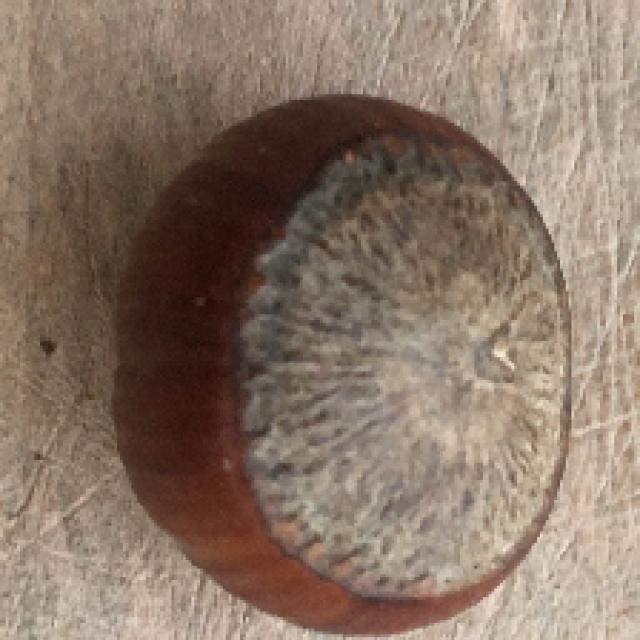DamagedHazelnut: (114, 93, 572, 637)
